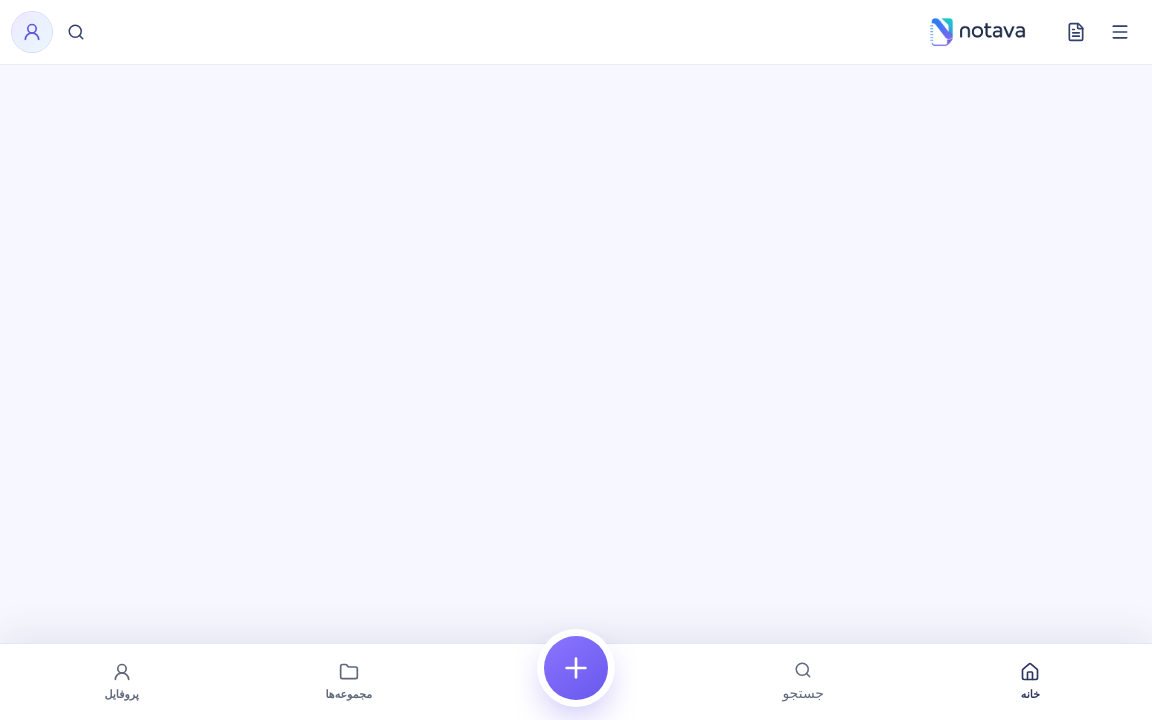
Test case: MobileShell panels and installation › opens sections from the bottom navigation and collapses a selected group
Click the button "مجموعه‌ها" at (349, 682), box [235, 654, 462, 710]
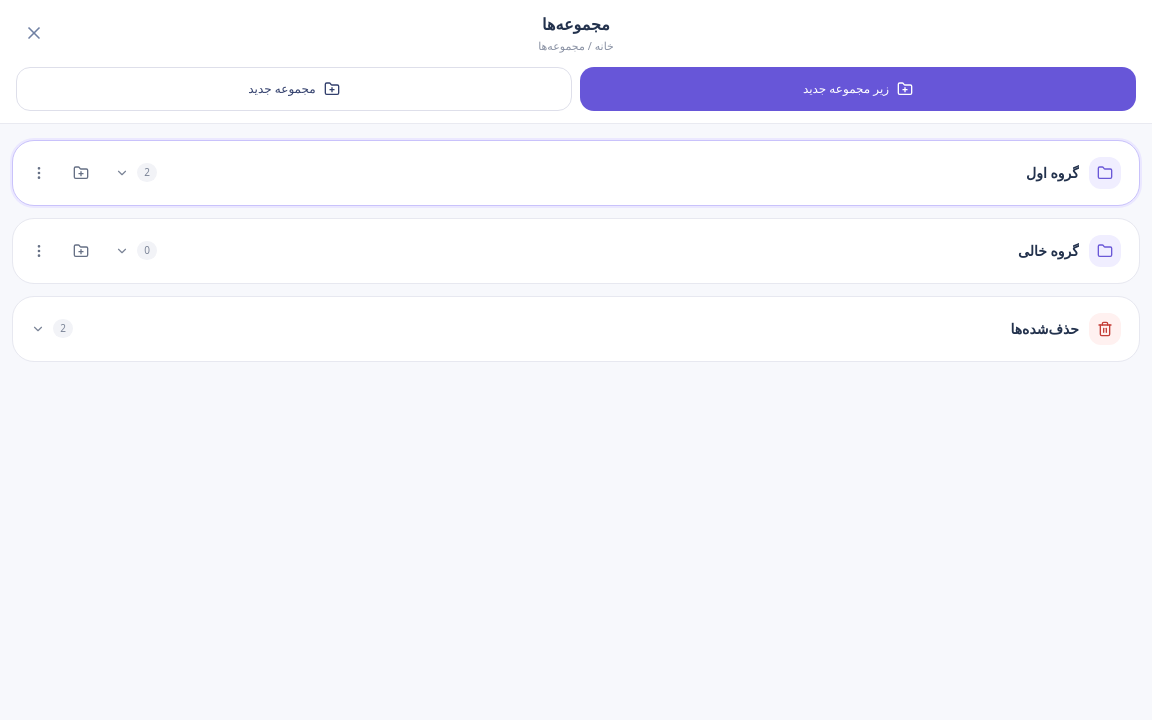
Click the button "گروه اول 2" at (1105, 172), box [105, 148, 1131, 196]
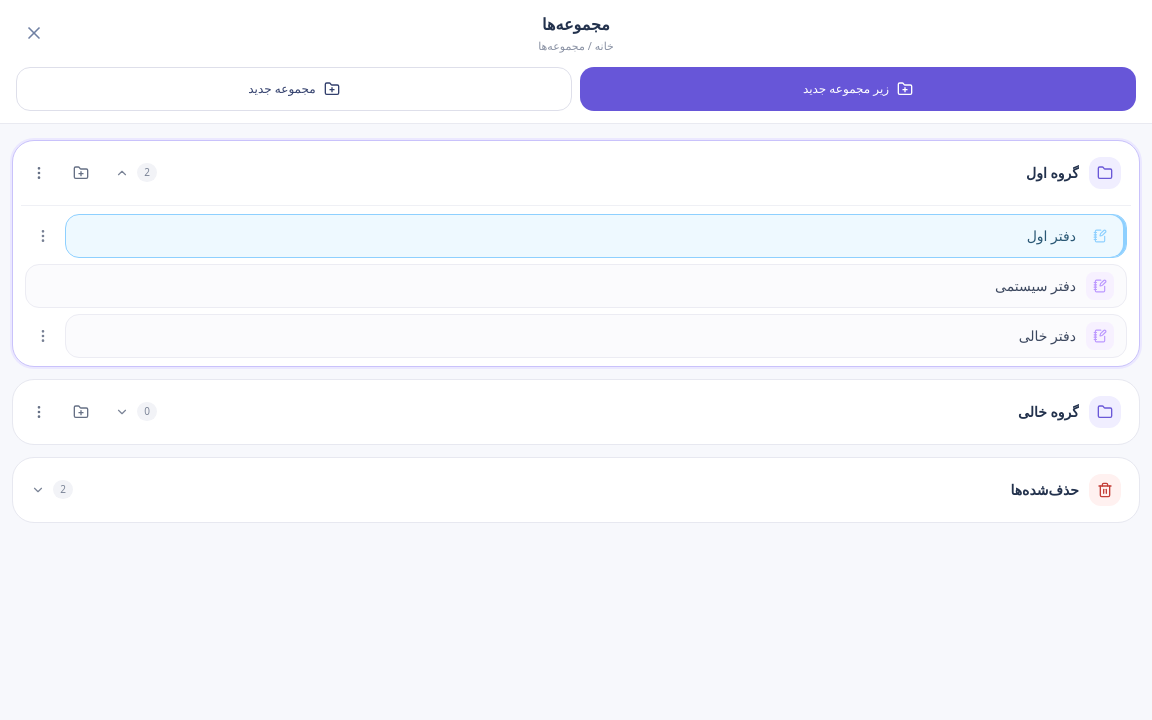
Result: the button "دفتر اول" is shown at [65, 214, 1127, 258]
Click the button "گروه اول 2" at (1105, 172), box [105, 148, 1131, 196]
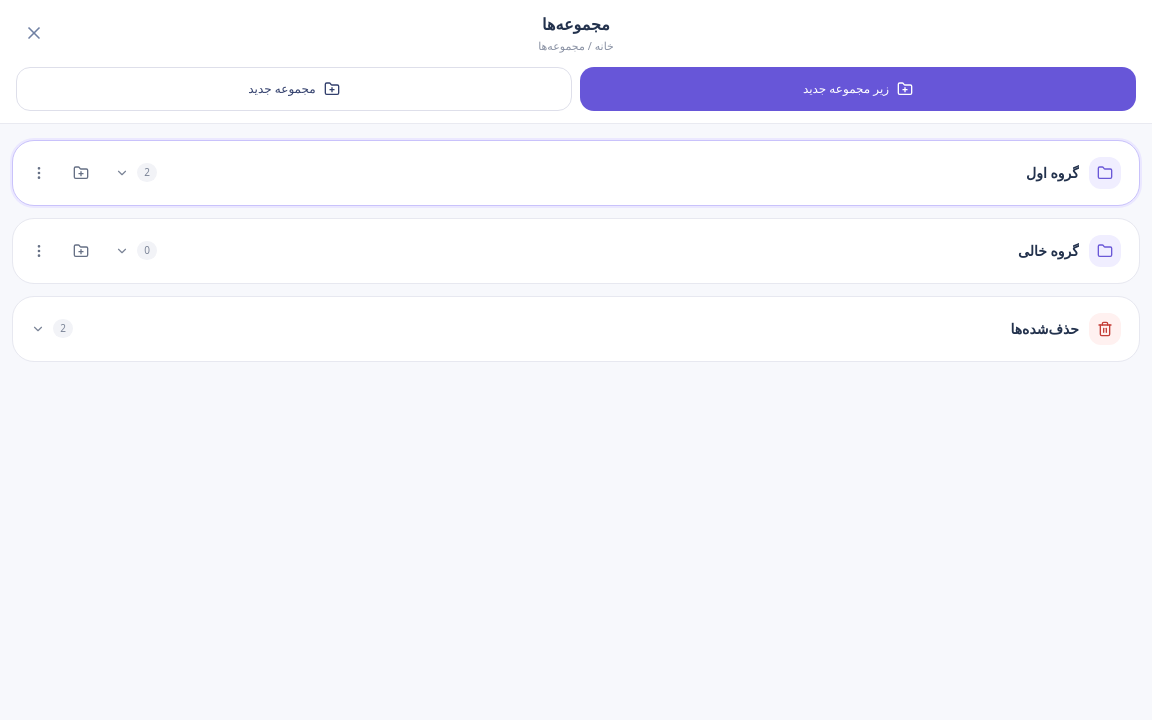
Result: the button "دفتر اول" is gone
